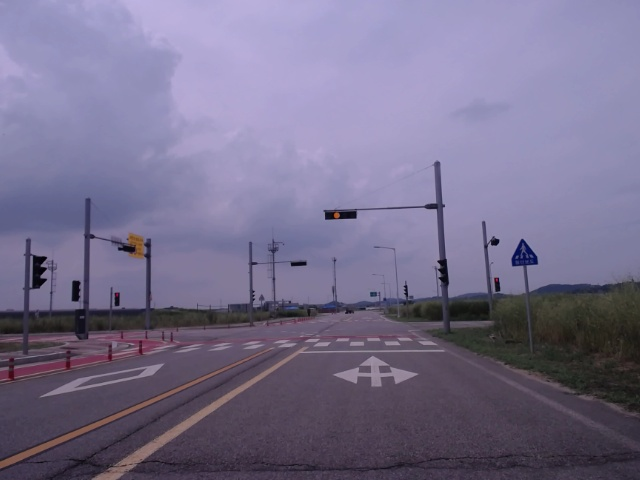orange_4: (324, 210, 357, 220)
